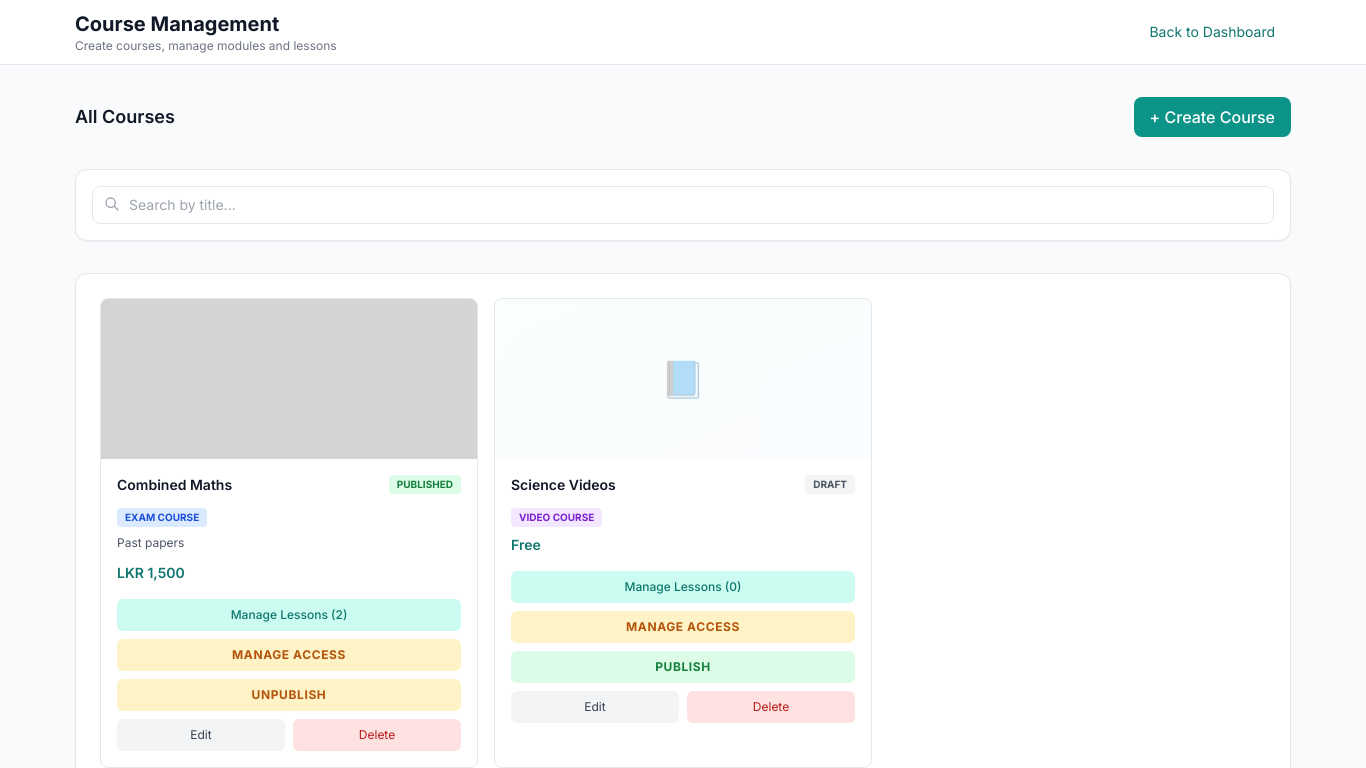
Test: Course management › create › explains each course type and shows active A/L streams only for grades 12–13
Expected: the heading "Combined Maths" is shown, [117,475,232,495]
Click the button "+ Create Course". click: (1212,117)
box: [1134,97,1291,137]
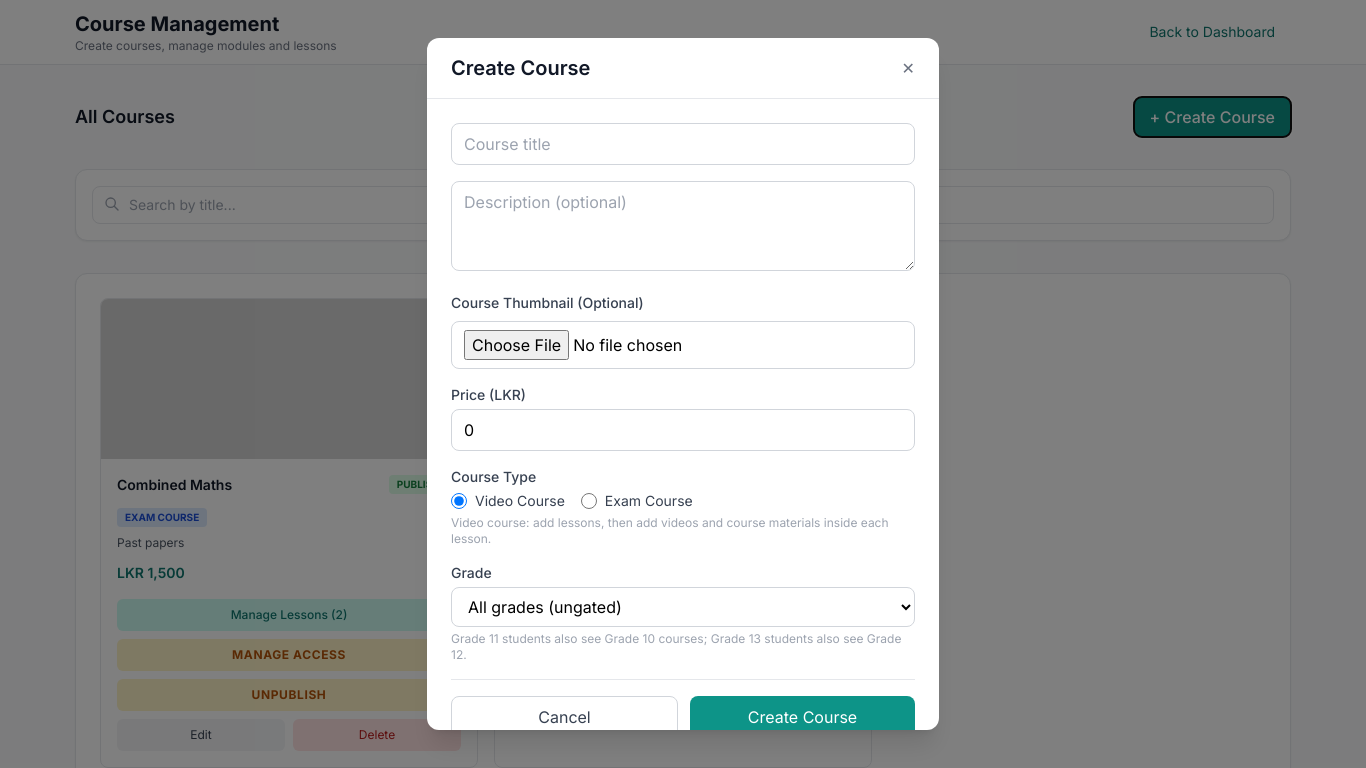
Expected: the text "Video course: add lessons" is shown, [451,515,889,546]
Click the radio button labelled "Exam Course". click: (589,501)
box: [581,493,597,509]
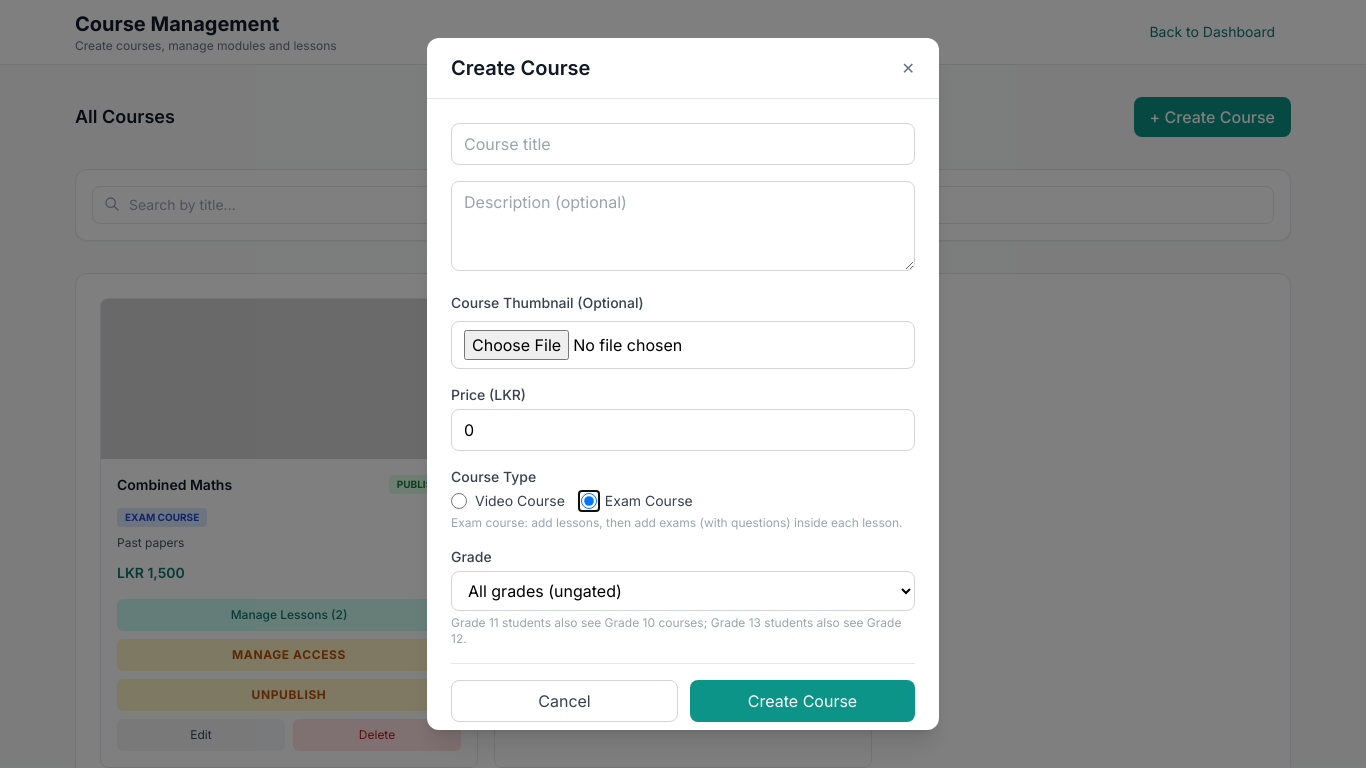
Expected: the text "A/L Streams" is not shown
Expected: the text "Exam course: add lessons" is shown, [451,515,902,530]
Select "Grade 13 (A/L)" in the dropdown. click: (683,591)
box: [451,571,915,611]
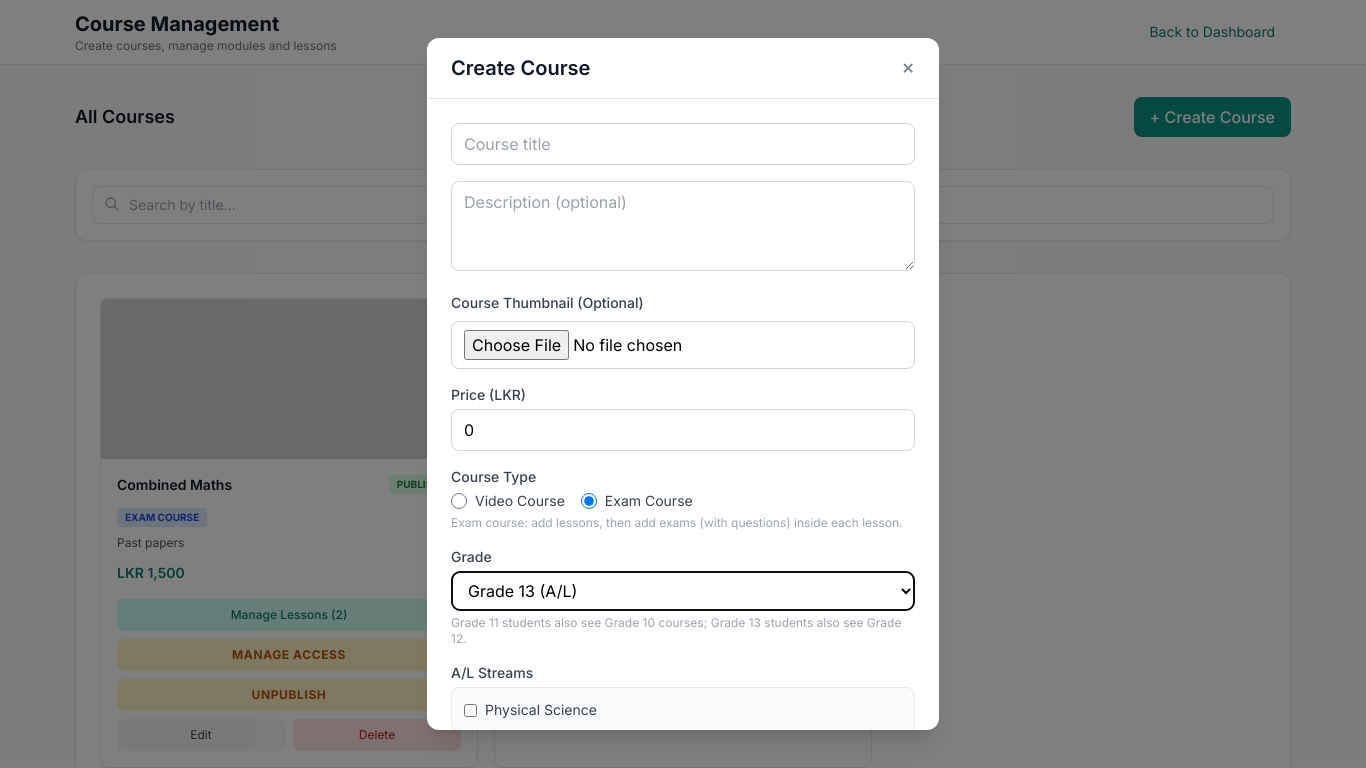
Expected: the checkbox labelled "Physical Science" is shown, [464,704,477,717]
